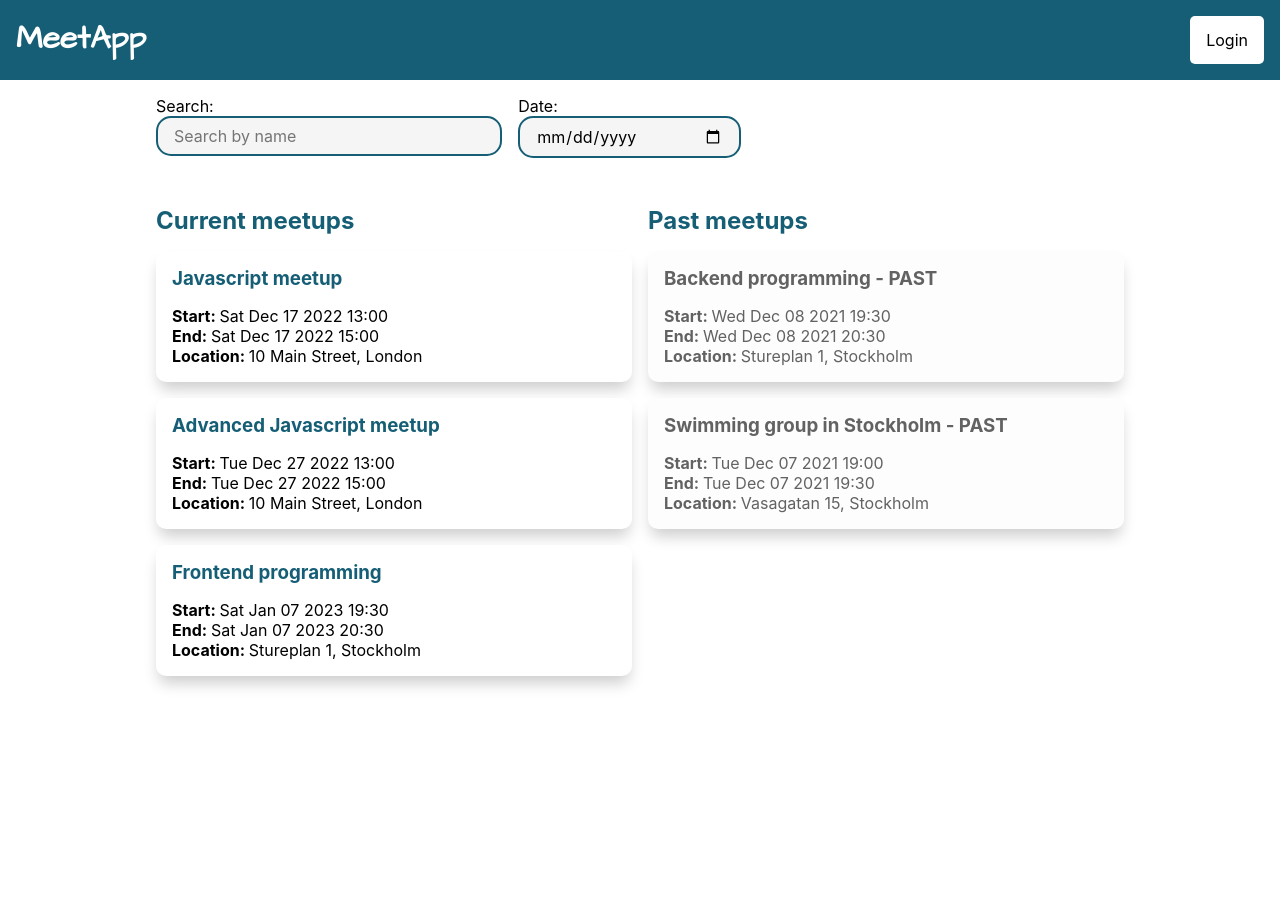
App integration tests - registering for events › renders a log in to attend button if user is not logged in
Note: Navigate to detail page
Click the link with test id "currentListItem" at (394, 316), box [156,251,632,382]
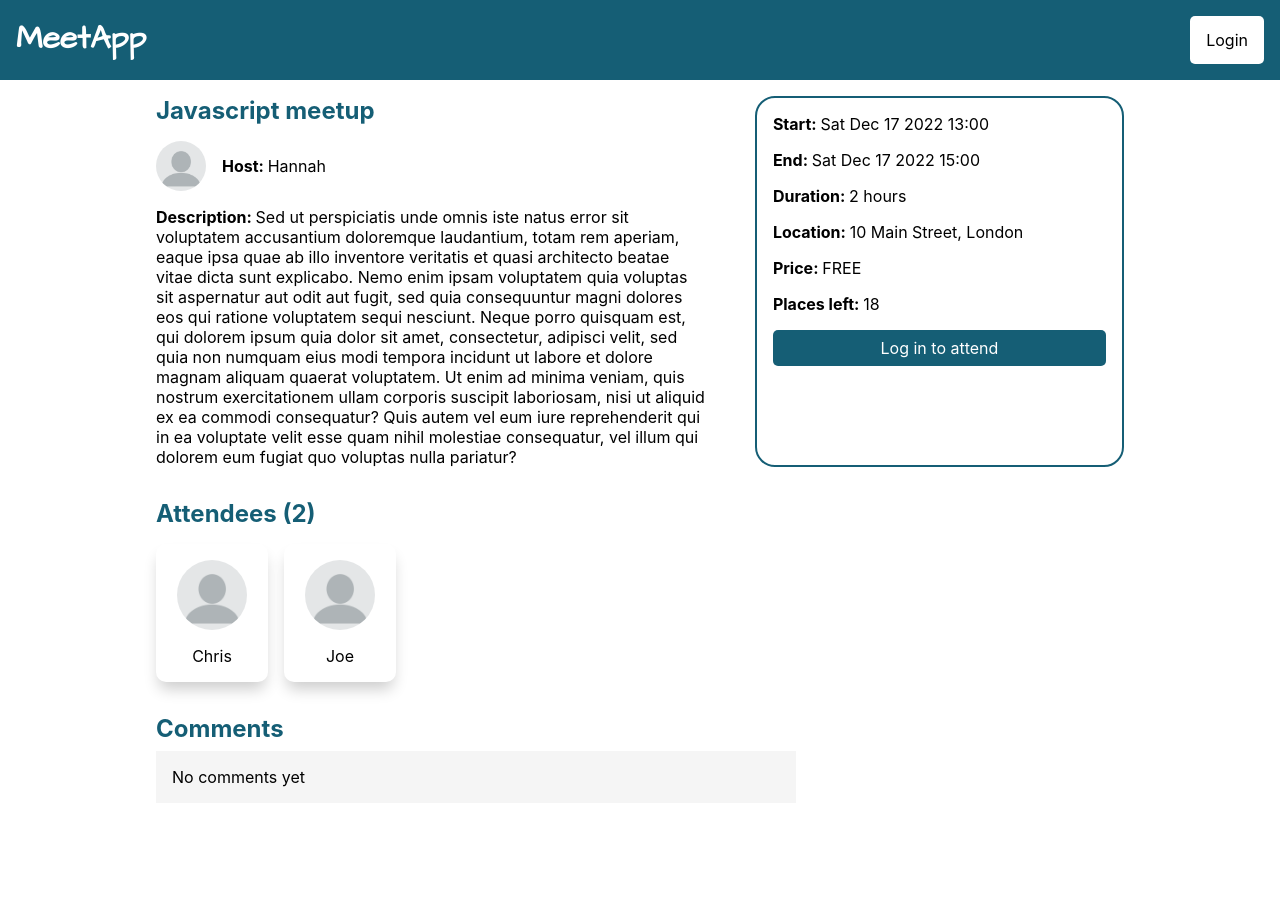
Expected: the button "Log in to attend" is shown, [773,330,1106,366]
